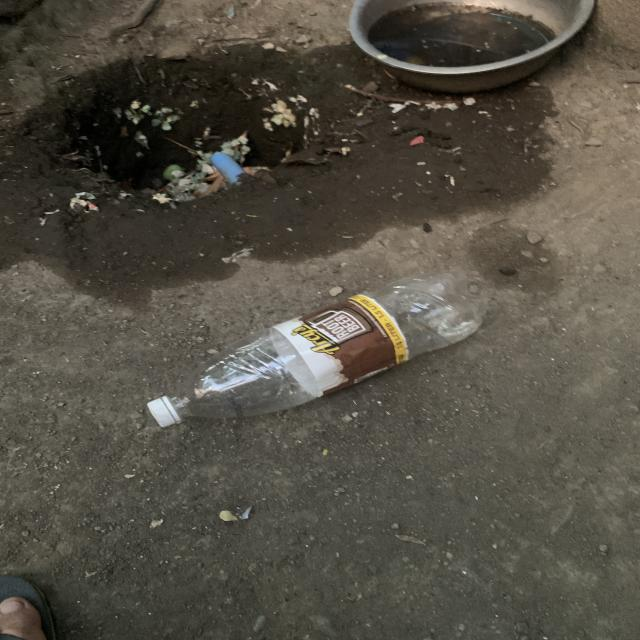Bottle: (148, 273, 486, 427)
